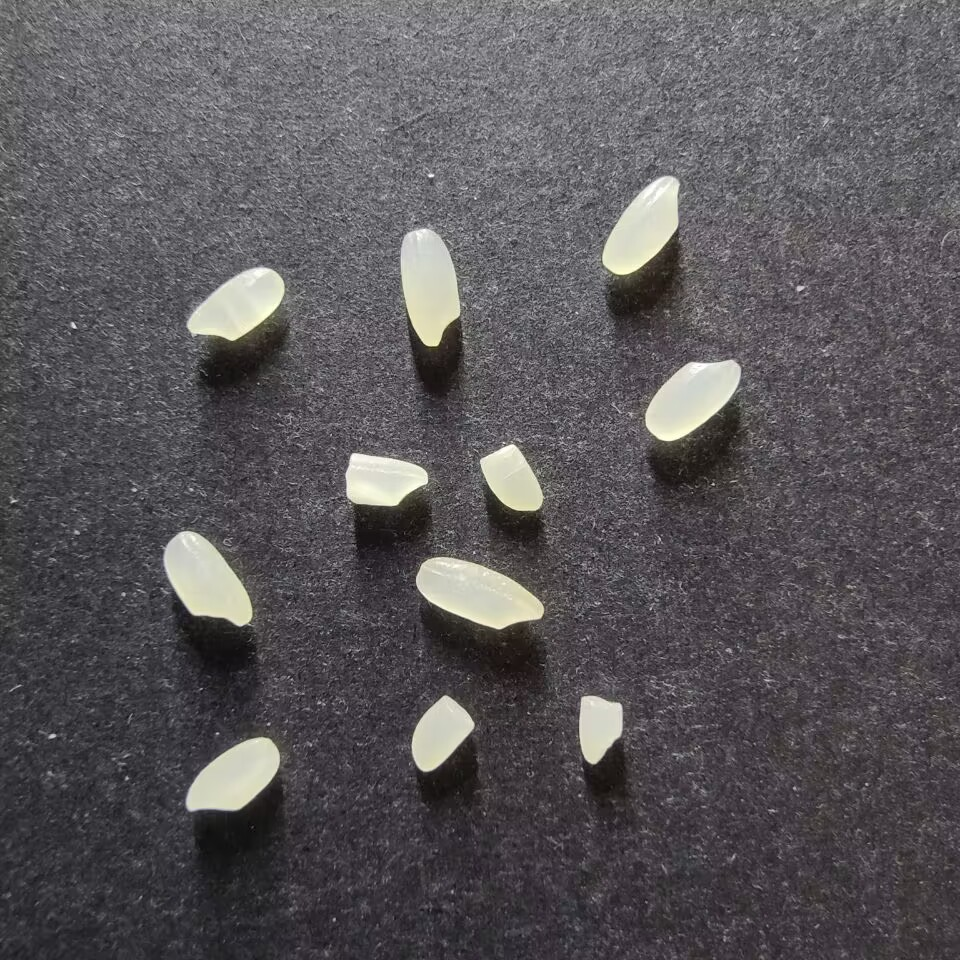broken: (410, 693, 474, 773), (478, 443, 543, 511), (344, 453, 427, 505), (577, 695, 624, 765)
rice: (414, 556, 545, 629), (162, 530, 254, 627), (644, 355, 741, 442), (600, 173, 680, 276), (398, 228, 461, 348), (185, 735, 281, 812), (186, 266, 284, 341)
